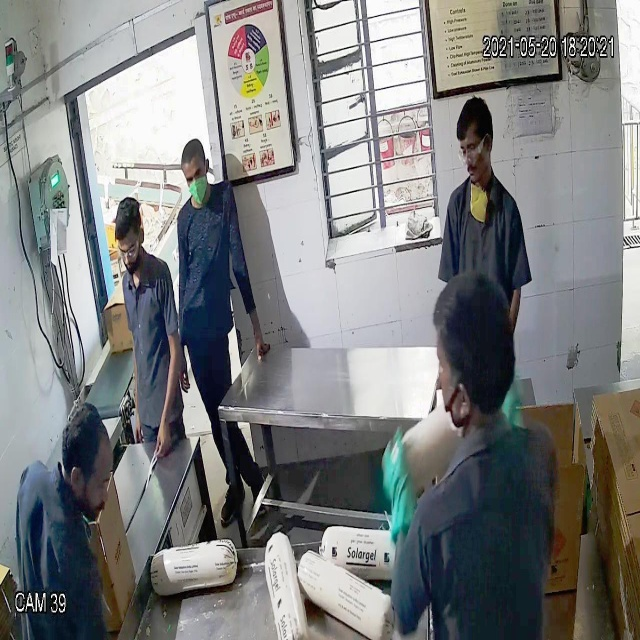Gafas: (455, 140, 490, 163), (115, 237, 142, 261)
